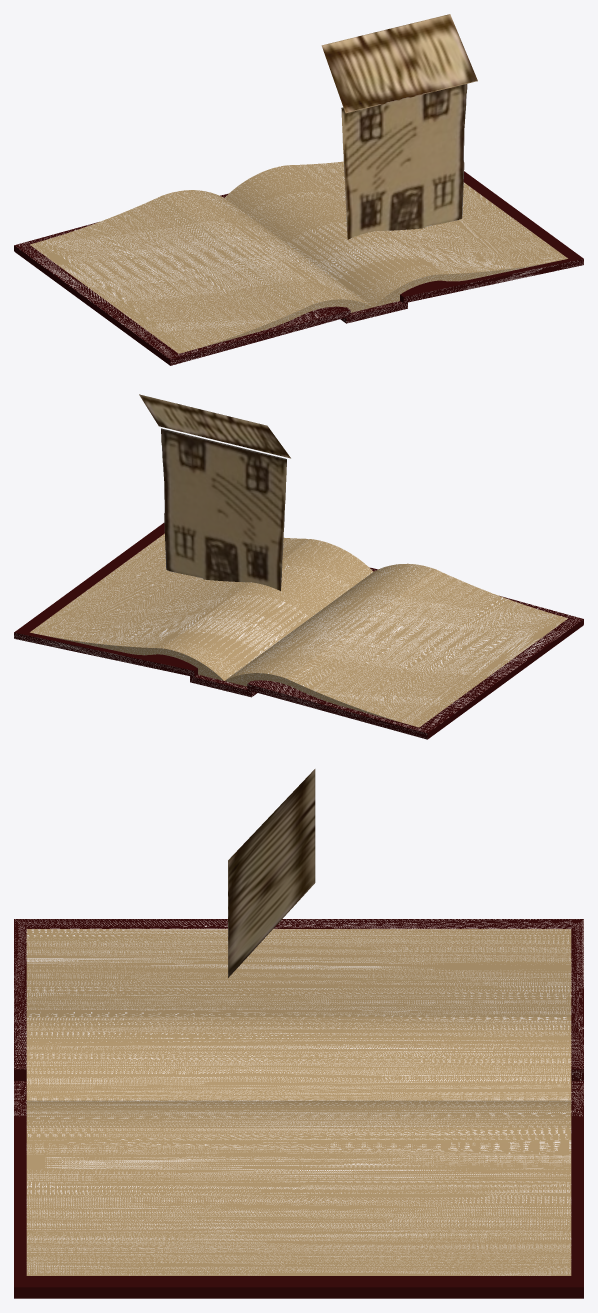
File: Open+Book+House.dae
The picture shows the model from 3 angles, top to bottom: view 1: azimuth 30°, elevation 25°; view 2: azimuth 150°, elevation 25°; view 3: azimuth 270°, elevation 25°; orthographic projection. The views are drawn at different scales.
Parts seen in each view (by area): view 1: SketchUp (×4), group_0 (×2); view 2: SketchUp (×4), group_0 (×2); view 3: SketchUp (×3), group_0.
Part boxes in pixels (x1,y1,x2,y2): SketchUp (×4): (14, 161, 583, 365); group_0 (×2): (321, 14, 477, 239); SketchUp (×4): (14, 523, 583, 739); group_0 (×2): (139, 394, 290, 590); SketchUp (×3): (14, 919, 583, 1298); group_0: (228, 769, 315, 977).
Size of the model in its own units: 8.66 by 5.67 by 4.08.
Materials: 5 (2 with a texture image).
